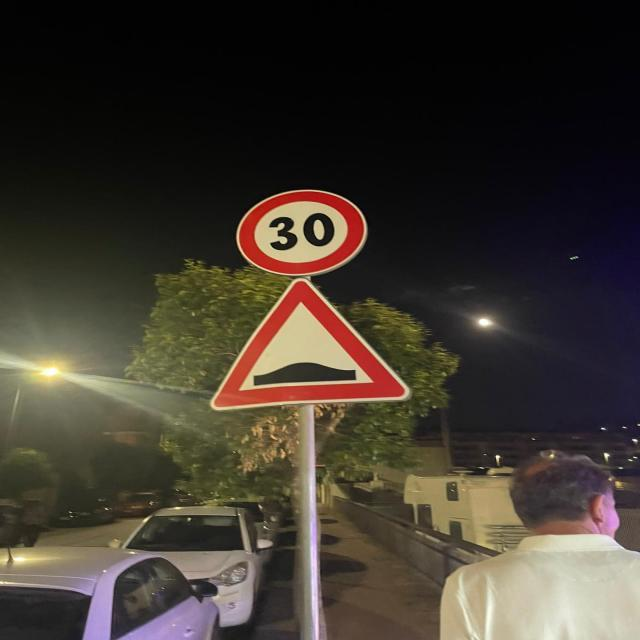forb_speed_over_30: (235, 188, 371, 278)
